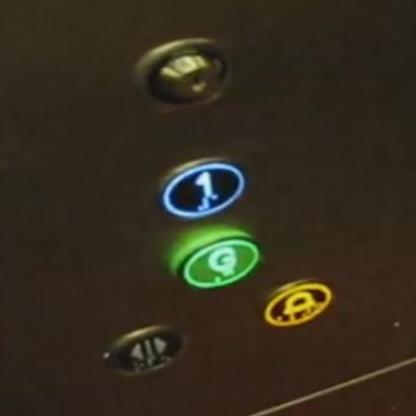1: (153, 155, 249, 220)
G: (169, 226, 269, 291)
alarm: (259, 276, 336, 329)
keyhole: (131, 35, 238, 112)
open: (98, 323, 190, 379)
